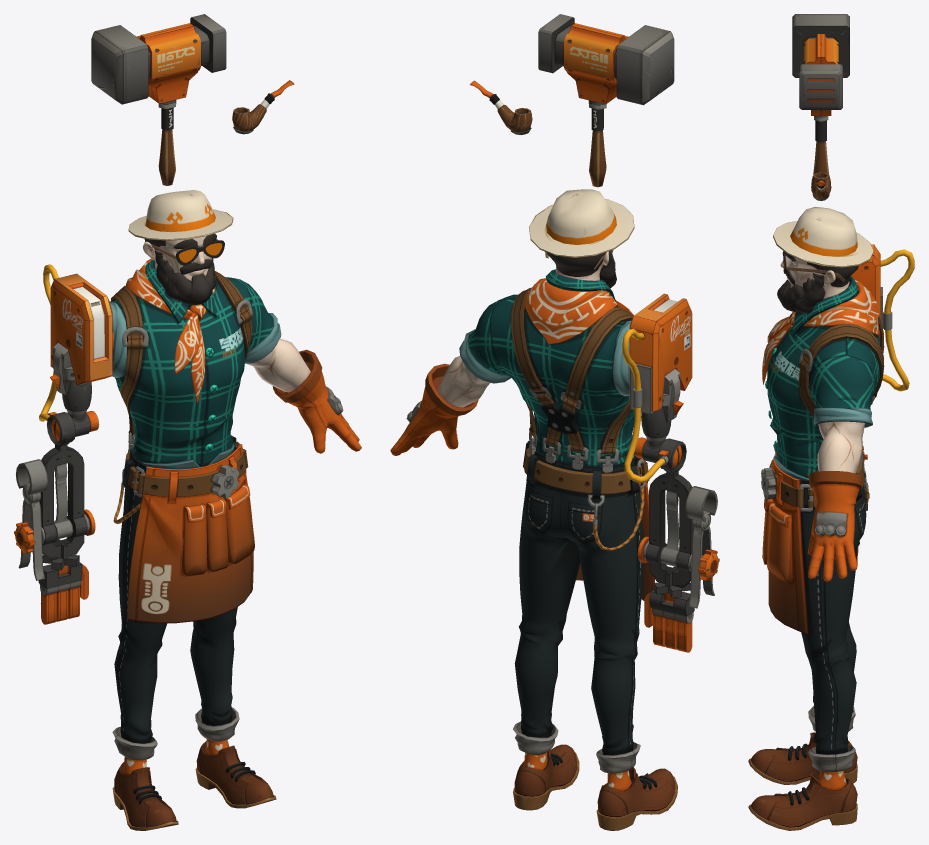
3 renders of one model, left to right at view 1: azimuth 30°, elevation 25°; view 2: azimuth 150°, elevation 25°; view 3: azimuth 270°, elevation 25°, orthographic. The views are drawn at different scales.
Parts seen in each view (by area): view 1: Enzo_Body, Enzo_Weapon, Enzo_Face; view 2: Enzo_Body, Enzo_Weapon; view 3: Enzo_Body, Enzo_Weapon, Enzo_Face.
Boxes of the visible parts, <box> form: Enzo_Body: <box>14,190,361,830</box>; Enzo_Weapon: <box>91,14,294,185</box>; Enzo_Face: <box>155,233,216,305</box>; Enzo_Body: <box>390,189,719,830</box>; Enzo_Weapon: <box>470,14,674,187</box>; Enzo_Body: <box>748,206,914,830</box>; Enzo_Weapon: <box>792,14,849,200</box>; Enzo_Face: <box>777,252,825,313</box>.
Bounding box in the file's own units: 1.04 × 2.37 × 0.476.
Materials: 4 (4 with a texture image).
